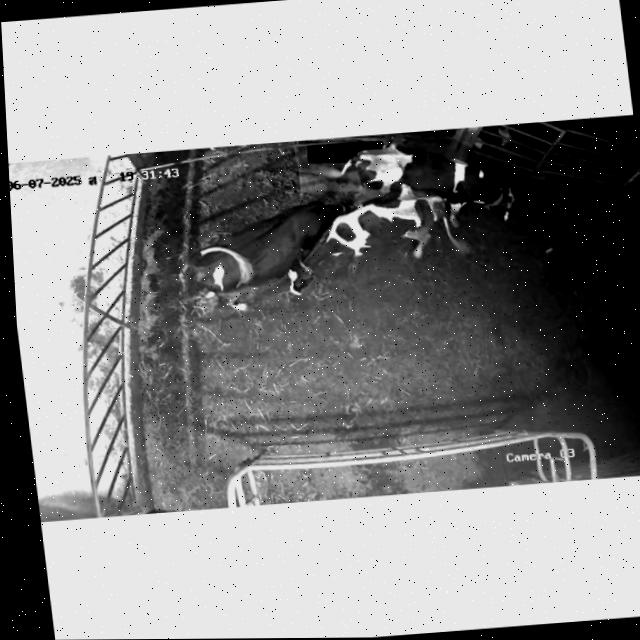stand: (167, 187, 355, 315), (276, 182, 468, 307), (331, 130, 526, 236)
